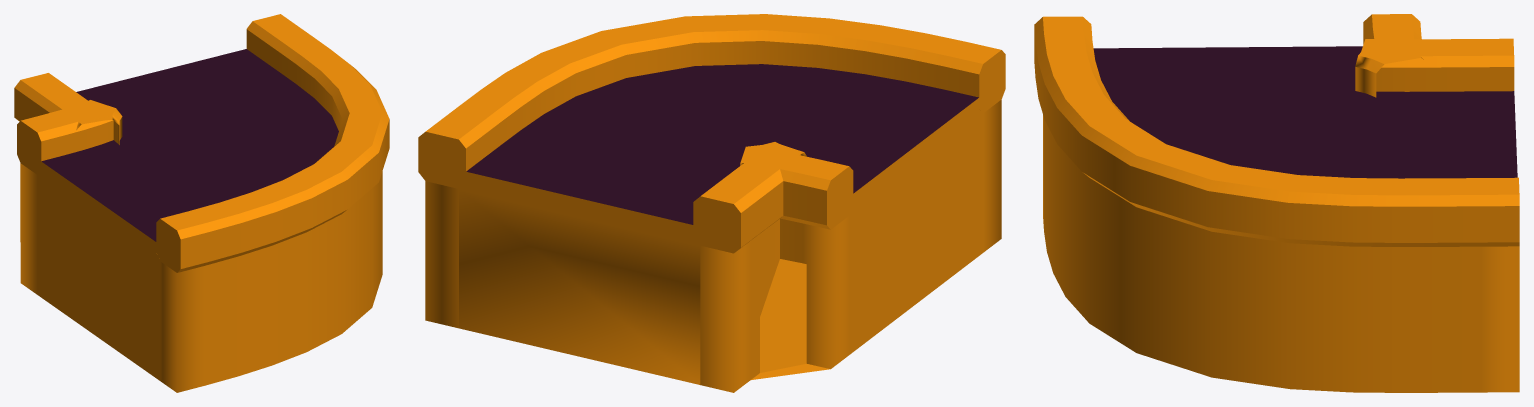
The model's file is NewCurvedConveyor.fbx.
The picture shows the model from 3 angles, left to right: view 1: azimuth 30°, elevation 25°; view 2: azimuth 150°, elevation 25°; view 3: azimuth 270°, elevation 25°; orthographic projection. The views are drawn at different scales.
Parts seen in each view (by area): view 1: Conveyor08.002; view 2: Conveyor08.002; view 3: Conveyor08.002.
Boxes of the visible parts, box(x1,y1,x2,y2) form: Conveyor08.002: box(14, 14, 389, 392); Conveyor08.002: box(418, 14, 1005, 392); Conveyor08.002: box(1034, 14, 1519, 392).
Bounding box in the file's own units: 5.28 × 2.63 × 5.85.
1 material, 1 textured.
